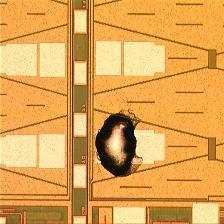BLOCK ETCH: (91, 105, 155, 180)
